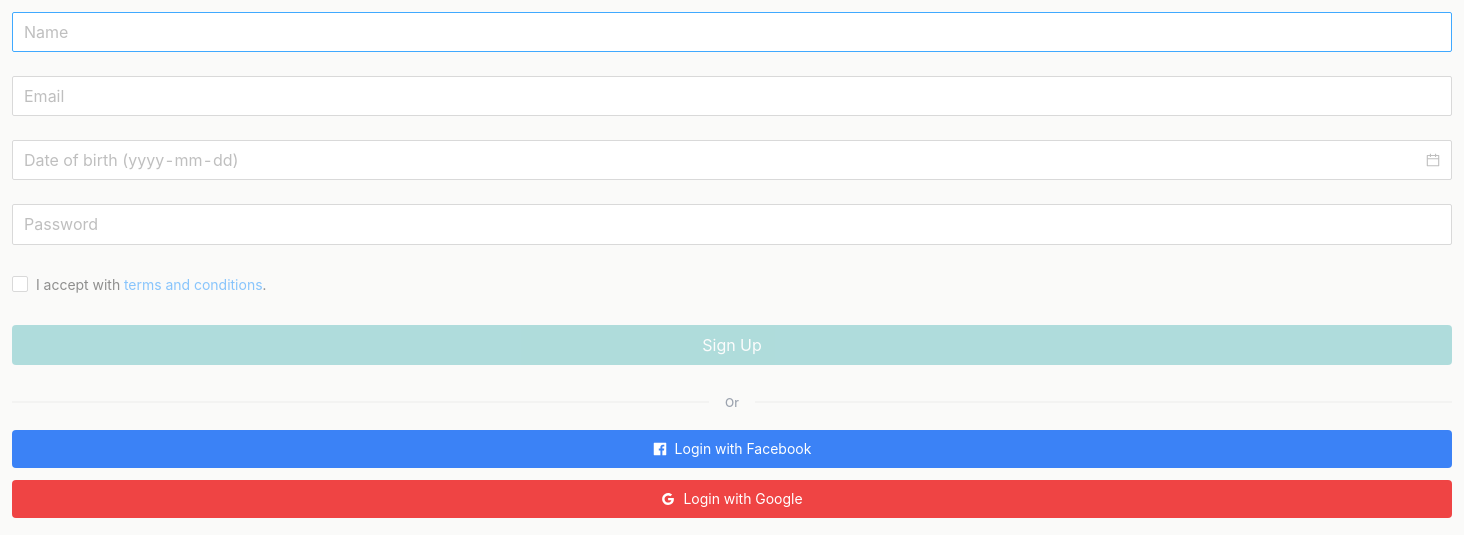
Test: SignUpForm component › It should prompt error label when input wrong value
In the field with placeholder "Email": (732, 96) [12, 76, 1452, 116], type "test"
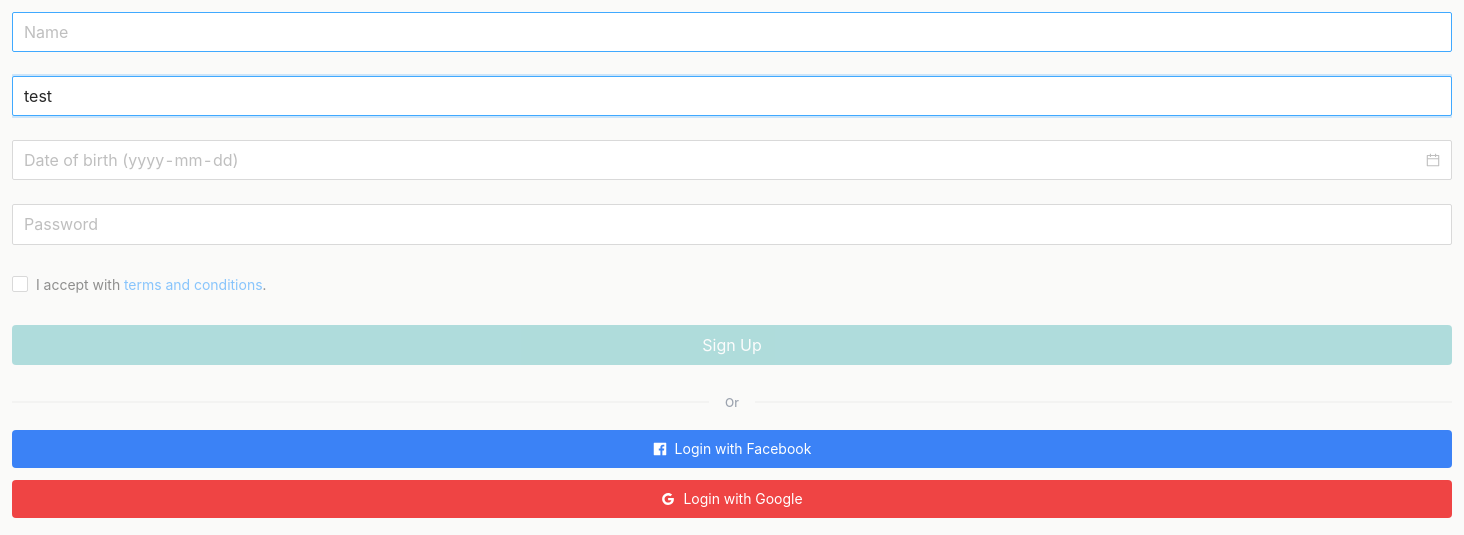
Press Tab
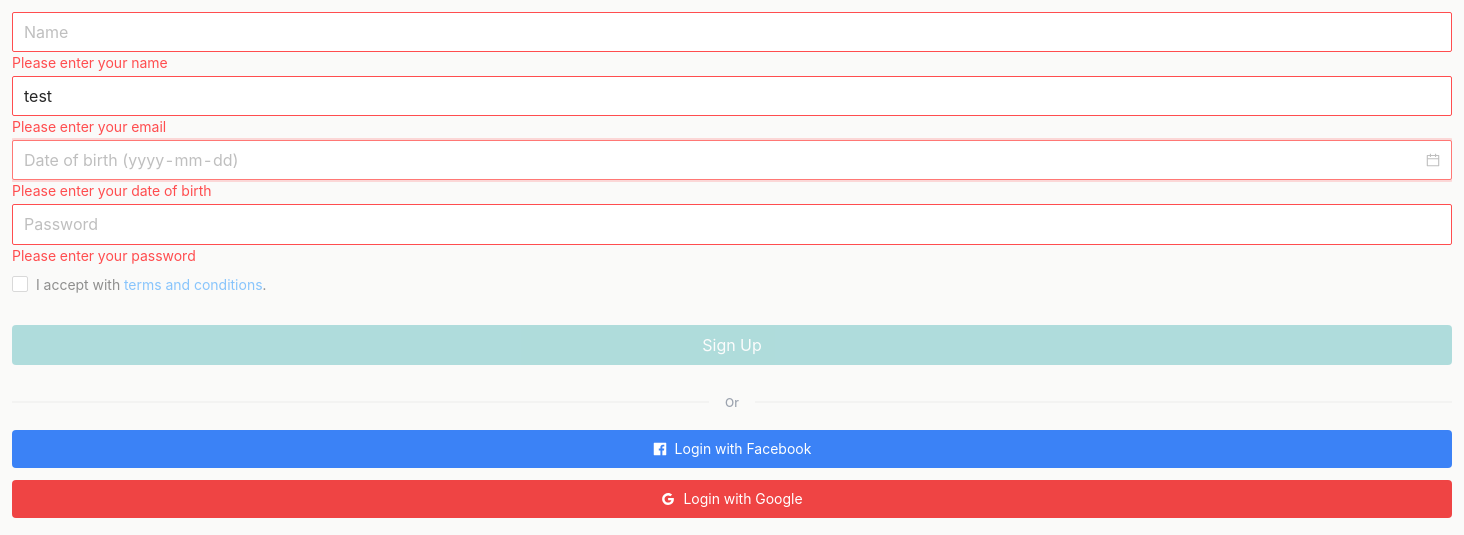
Now the text "Please enter your email" is shown, box [12, 118, 166, 135]
